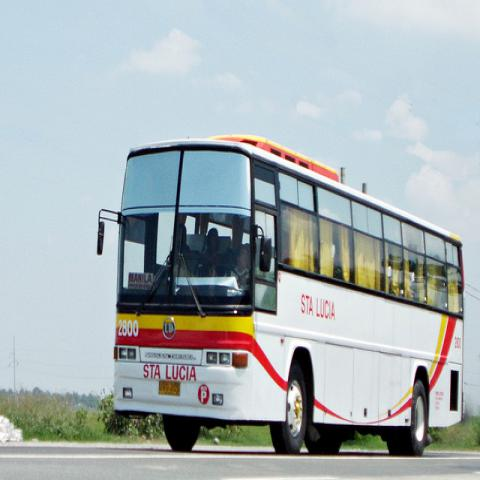bus: (87, 126, 471, 463)
